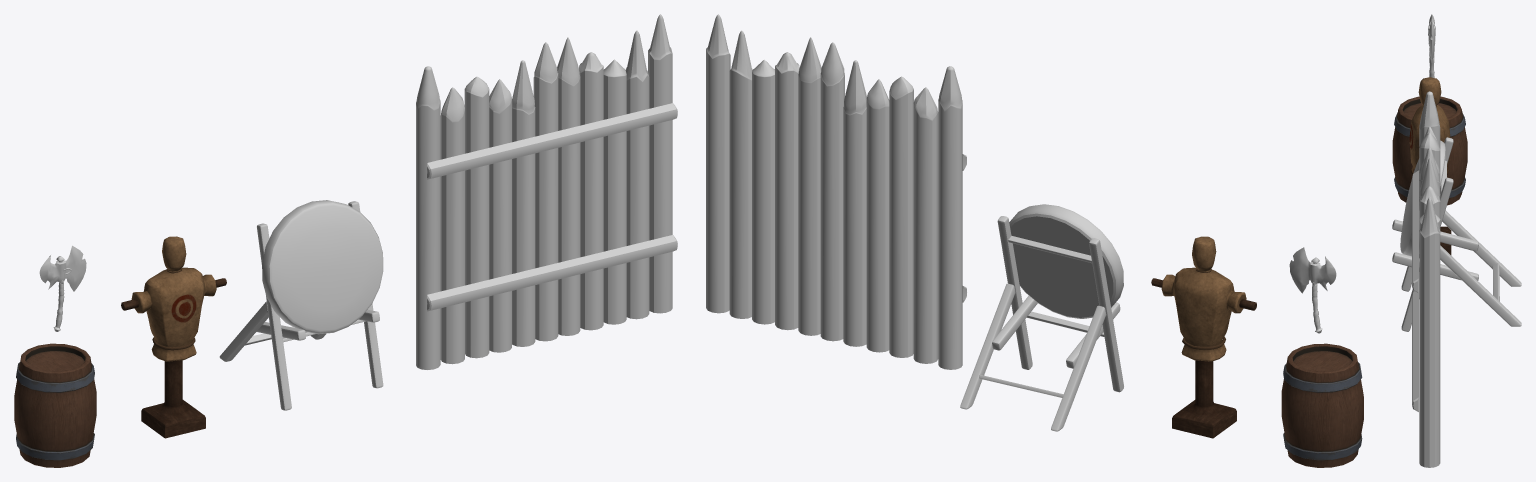
The picture shows the model from 3 angles, left to right: view 1: azimuth 30°, elevation 25°; view 2: azimuth 150°, elevation 25°; view 3: azimuth 270°, elevation 25°; orthographic projection. The views are drawn at different scales.
Parts seen in each view (by area): view 1: Palisade2, ArcheryTarget, Barrel_low, dummy, post, body_low, polySurface6, polySurface5, polySurface8; view 2: Palisade2, Barrel_low, ArcheryTarget, dummy, post, polySurface6, polySurface8, polySurface5, body_low, polySurface7, polySurface3; view 3: Palisade2, Barrel_low, dummy, polySurface7, ArcheryTarget, polySurface8, polySurface5, polySurface4, polySurface3, body_low, polySurface6, polySurface2 (+1 smaller).
Boxes of the visible parts, x1,y1,x2,y2 form: Palisade2: [416, 14, 677, 369]; ArcheryTarget: [262, 200, 383, 334]; Barrel_low: [14, 343, 96, 467]; dummy: [121, 236, 226, 361]; post: [141, 360, 205, 438]; body_low: [39, 245, 86, 331]; polySurface6: [257, 223, 291, 410]; polySurface5: [348, 201, 383, 388]; polySurface8: [219, 301, 268, 361]; Palisade2: [706, 14, 966, 369]; Barrel_low: [1281, 343, 1363, 467]; ArcheryTarget: [1009, 204, 1123, 318]; dummy: [1151, 236, 1256, 361]; post: [1172, 360, 1236, 438]; polySurface6: [1089, 238, 1123, 392]; polySurface8: [1051, 305, 1106, 431]; polySurface5: [997, 216, 1032, 369]; body_low: [1289, 247, 1336, 333]; polySurface7: [960, 283, 1015, 409]; polySurface3: [992, 296, 1037, 350]; Palisade2: [1412, 91, 1440, 467]; Barrel_low: [1392, 96, 1467, 205]; dummy: [1409, 77, 1450, 177]; polySurface7: [1440, 245, 1521, 326]; ArcheryTarget: [1400, 140, 1445, 256]; polySurface8: [1442, 210, 1521, 286]; polySurface5: [1401, 177, 1453, 331]; polySurface4: [1392, 219, 1478, 251]; polySurface3: [1392, 252, 1478, 280]; body_low: [1428, 14, 1435, 77]; polySurface6: [1401, 137, 1453, 291]; polySurface2: [1492, 263, 1499, 301].
Bounding box in the file's own units: 642 × 281 × 122.
